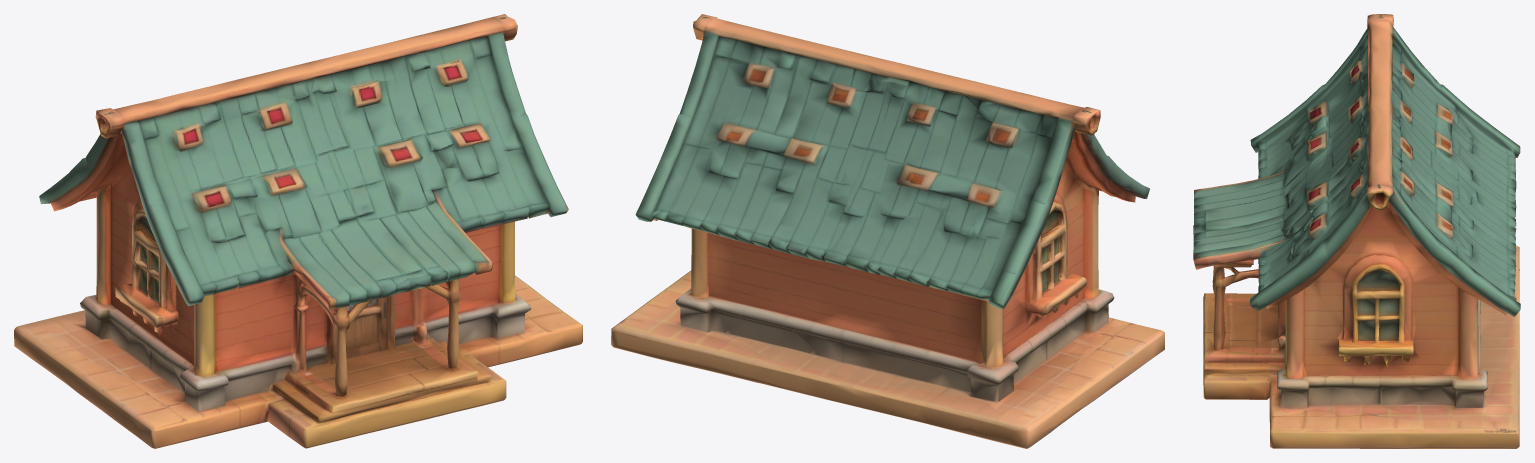
The model's file is village_house_low_poly_ottoman_style.glb.
3 renders of one model, left to right at view 1: azimuth 30°, elevation 25°; view 2: azimuth 150°, elevation 25°; view 3: azimuth 270°, elevation 25°, orthographic. The views are drawn at different scales.
Visible parts, largest first — view 1: unnamed; view 2: unnamed; view 3: unnamed.
Part boxes in pixels (bbox=[...]): unnamed: bbox=[14, 14, 582, 448]; unnamed: bbox=[611, 14, 1164, 448]; unnamed: bbox=[1193, 14, 1520, 448].
Bounding box in the file's own units: 2 × 1.28 × 1.48.
Materials: 1 (1 with a texture image).
